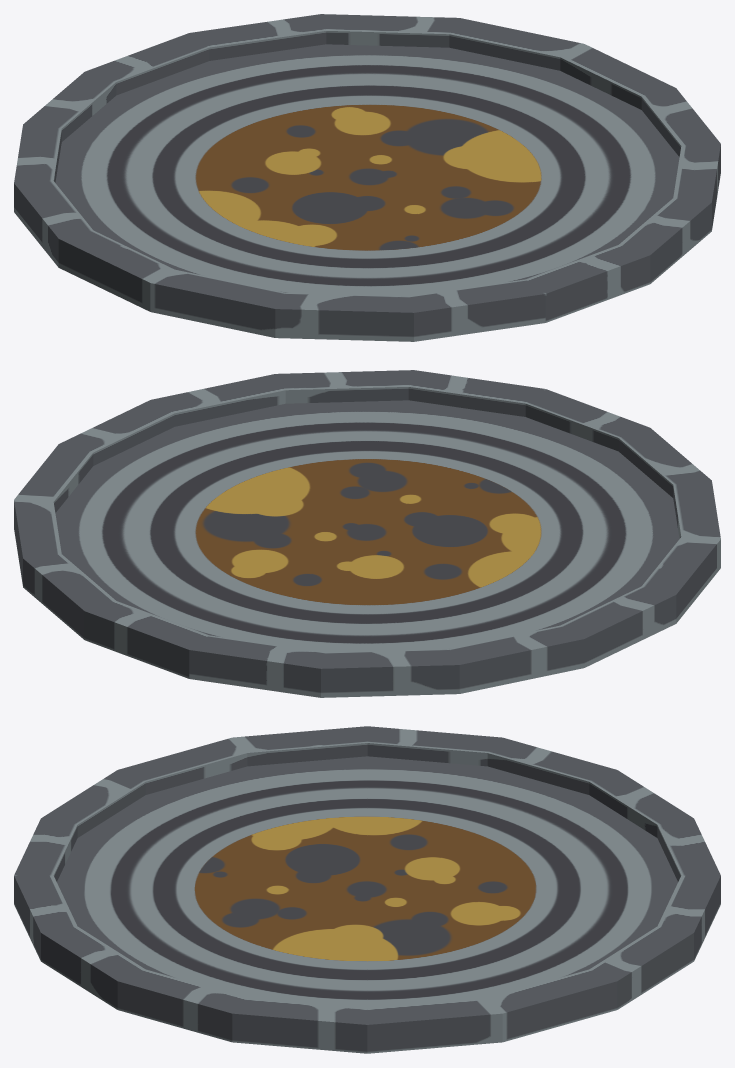
The model's file is trucarbre.fbx.
3 views of the same model, one above another, from view 1: azimuth 30°, elevation 25°; view 2: azimuth 150°, elevation 25°; view 3: azimuth 270°, elevation 25° (orthographic).
Visible parts, largest first — view 1: Cylinder.003; view 2: Cylinder.003; view 3: Cylinder.003.
Boxes of the visible parts, box(x1,y1,x2,y2) form: Cylinder.003: box(14, 14, 720, 341); Cylinder.003: box(14, 370, 720, 697); Cylinder.003: box(14, 726, 720, 1053).
Size of the model in its own units: 723 by 32.52 by 723.
